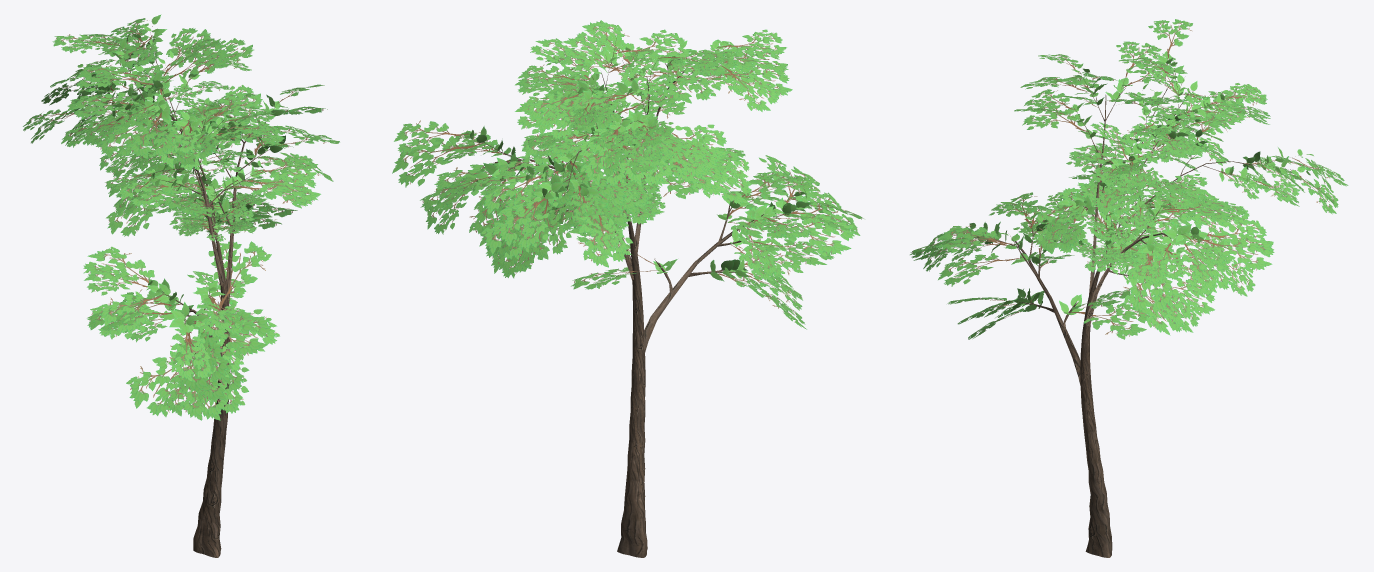
File: Stylized_Broadleaf_001_5.fbx
The picture shows the model from 3 angles, left to right: view 1: azimuth 30°, elevation 25°; view 2: azimuth 150°, elevation 25°; view 3: azimuth 270°, elevation 25°; orthographic projection. The views are drawn at different scales.
Visible parts, largest first — view 1: Stylized_Broadleaf_001_5; view 2: Stylized_Broadleaf_001_5; view 3: Stylized_Broadleaf_001_5.
Boxes of the visible parts, x1,y1,x2,y2 form: Stylized_Broadleaf_001_5: [23, 14, 339, 557]; Stylized_Broadleaf_001_5: [392, 20, 863, 557]; Stylized_Broadleaf_001_5: [910, 19, 1348, 557].
Bounding box in the file's own units: 14.87 × 21.13 × 18.25.
Materials: 4 (3 with a texture image).
